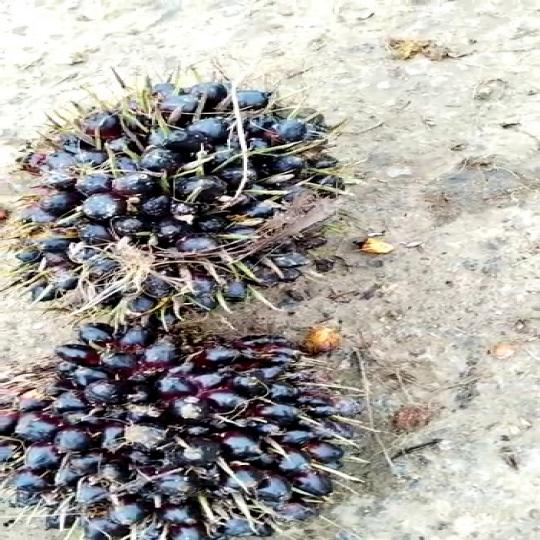mentah: (1, 73, 398, 314), (0, 320, 389, 540)
